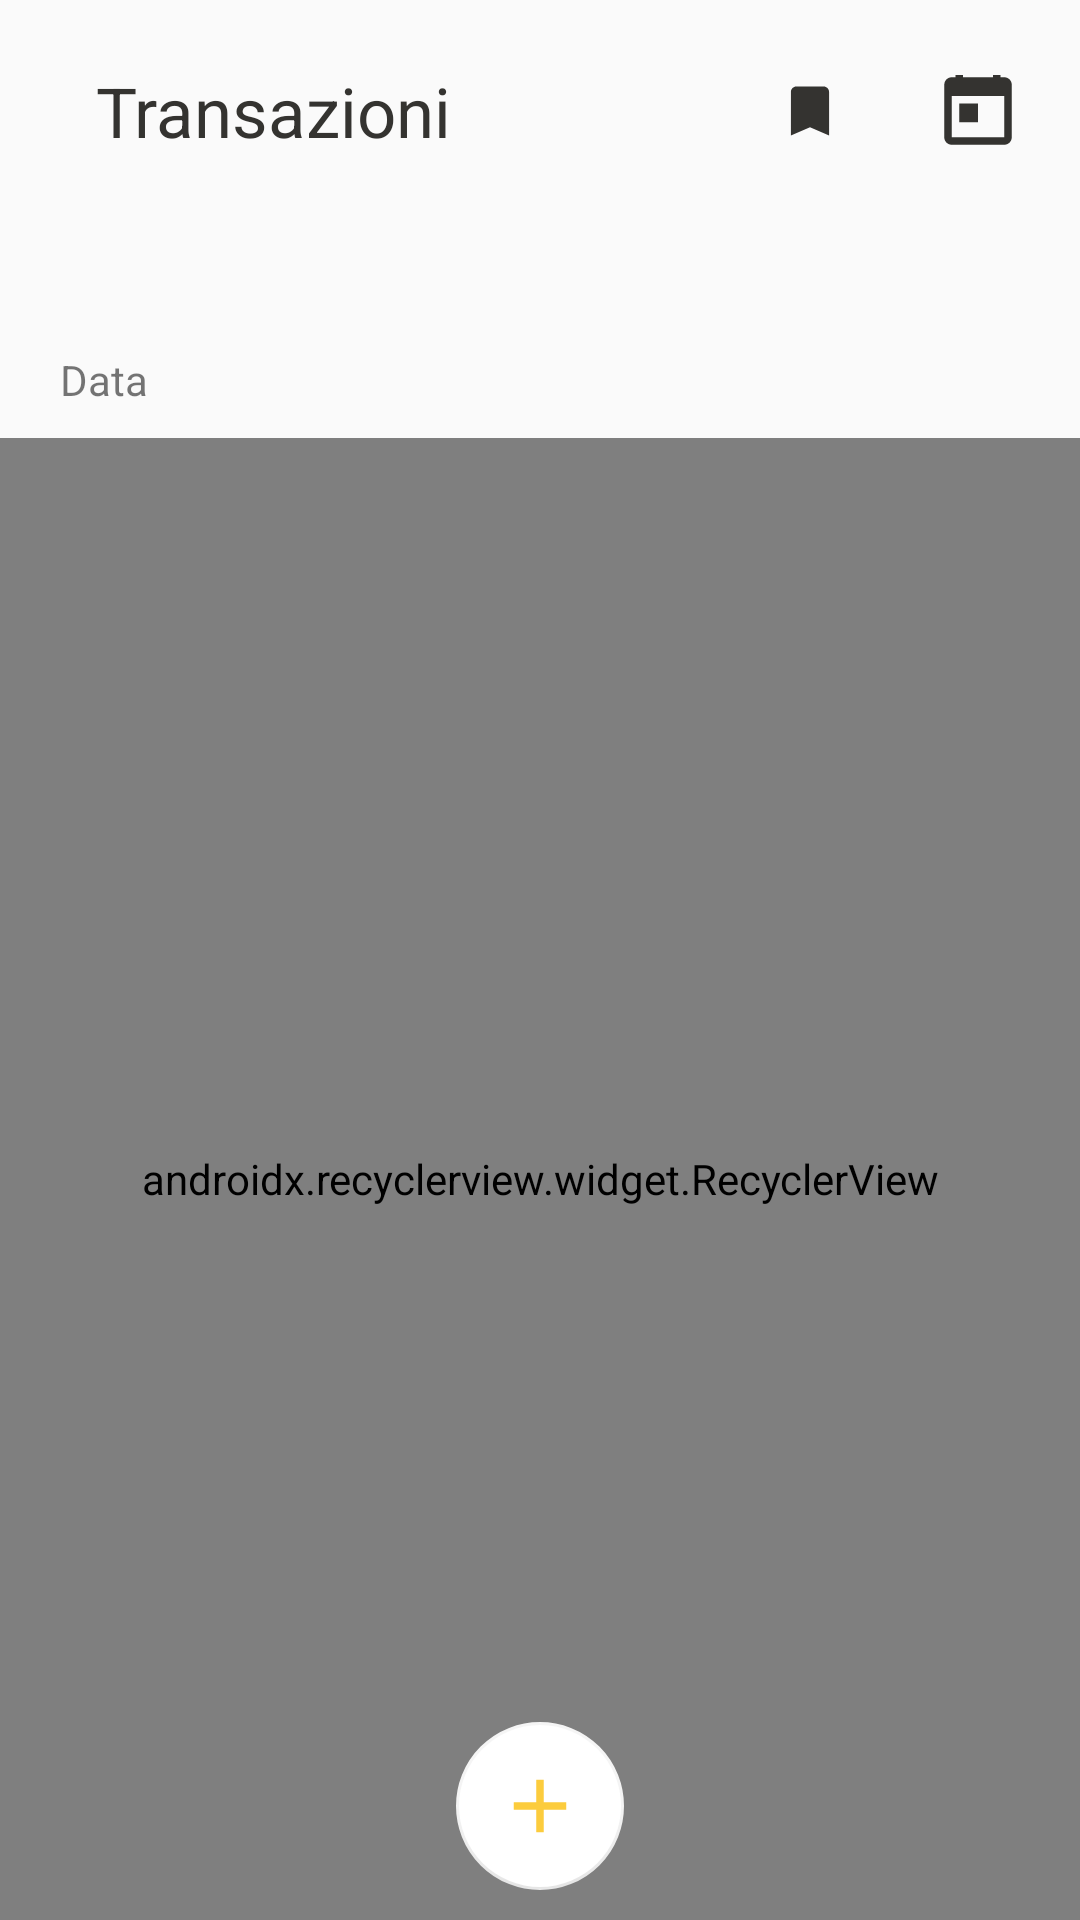

Point at icon controls on the screen. Image size 1080 x 1920, points as [x,y].
add: [540,1806]
bookmark: [810,111]
date: [978,110]
